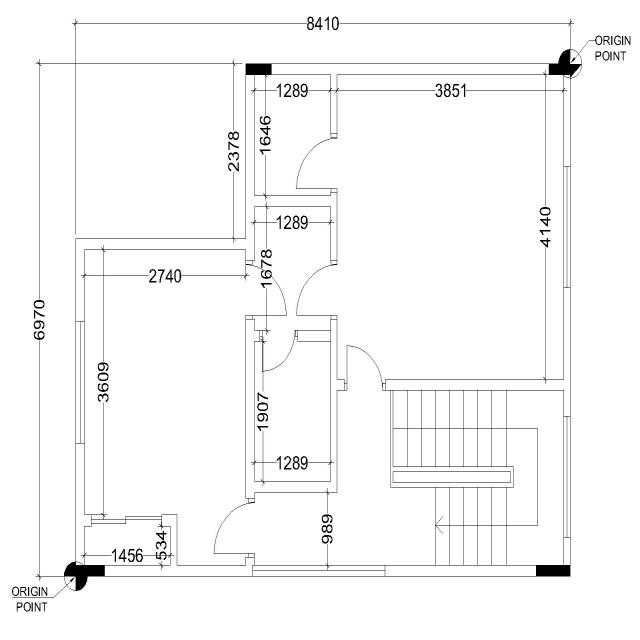Column: (536, 565, 570, 577), (75, 565, 105, 577), (246, 64, 272, 75), (549, 64, 570, 75)
Door: (213, 498, 255, 557), (296, 133, 337, 193), (246, 260, 287, 319), (296, 260, 337, 319), (344, 346, 386, 390), (262, 330, 298, 372)
Sliding Door: (91, 514, 162, 526)
Staircase: (337, 390, 564, 565)
Window: (252, 565, 386, 576), (76, 322, 84, 444), (564, 416, 570, 538), (564, 167, 570, 288)
